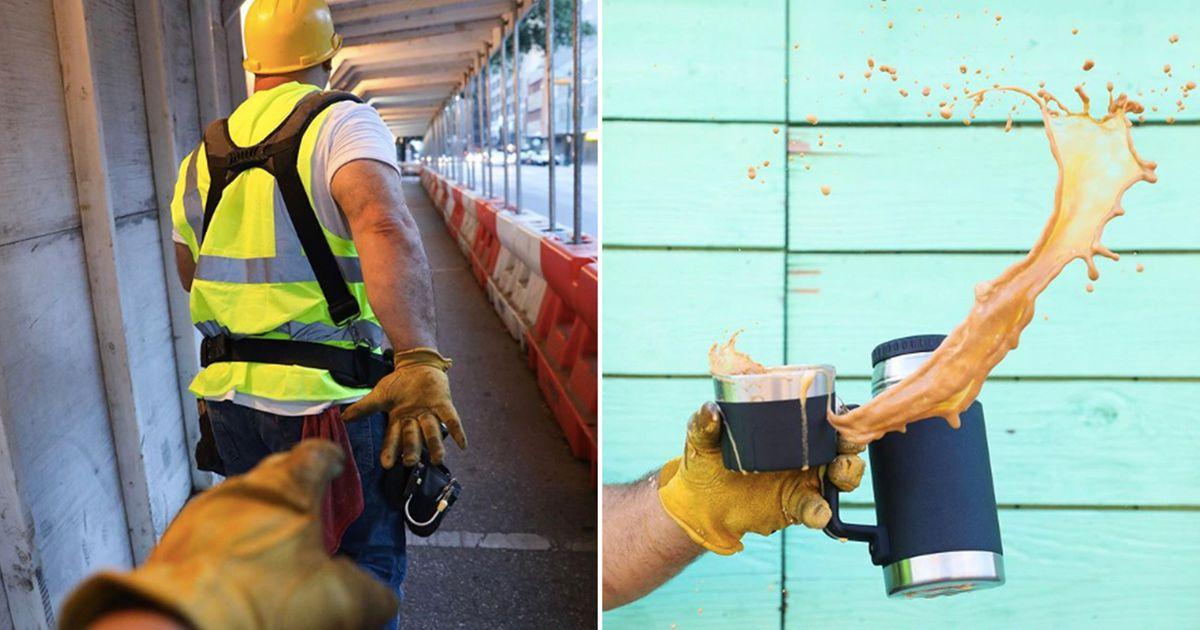helmet: (239, 1, 344, 75)
